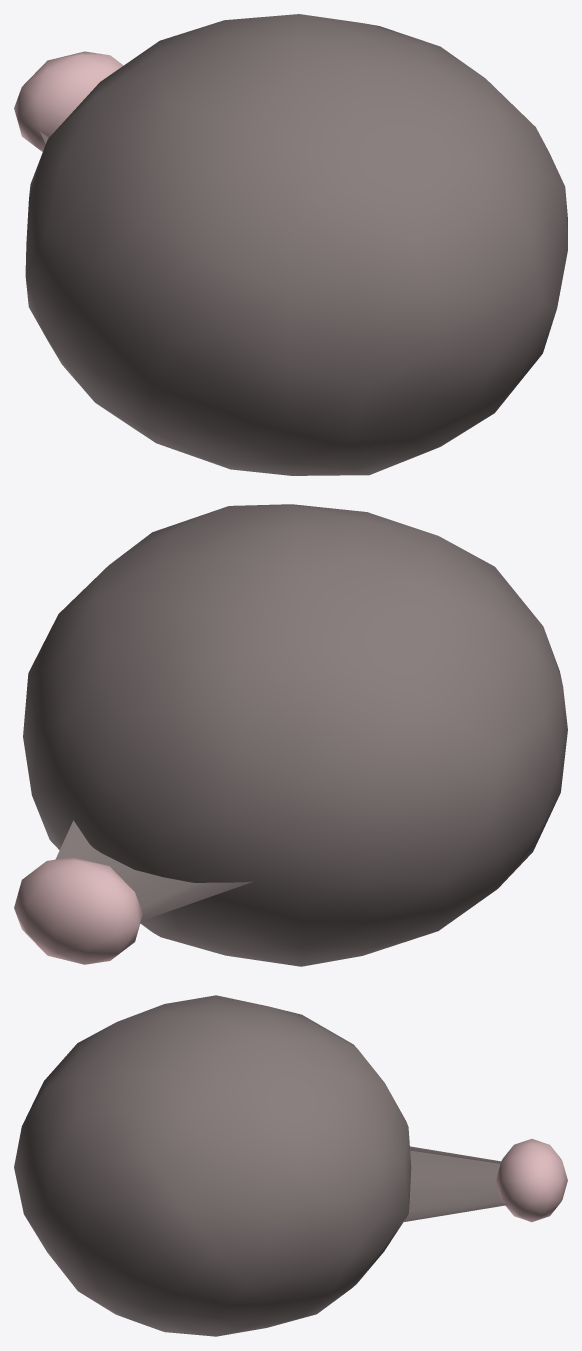
Rendered from mole_head.glb.
3 renders of one model, top to bottom at view 1: azimuth 30°, elevation 25°; view 2: azimuth 150°, elevation 25°; view 3: azimuth 270°, elevation 25°, orthographic. The views are drawn at different scales.
Parts seen in each view (by area): view 1: mole_head; view 2: mole_head; view 3: mole_head.
Part boxes in pixels (left/top/right/bottom): mole_head: left=14, top=14, right=567, bottom=475; mole_head: left=14, top=504, right=567, bottom=966; mole_head: left=14, top=995, right=567, bottom=1336.
Bounding box in the file's own units: 0.2203 × 0.1801 × 0.3071.
